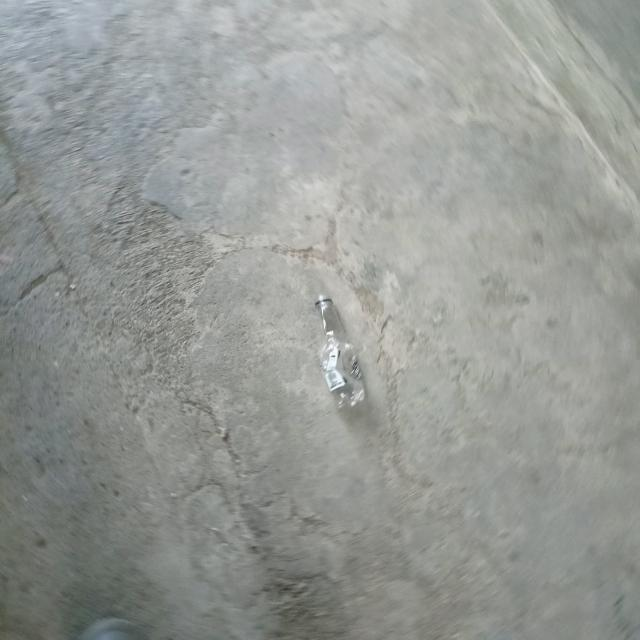Bottle: (315, 295, 365, 408)
